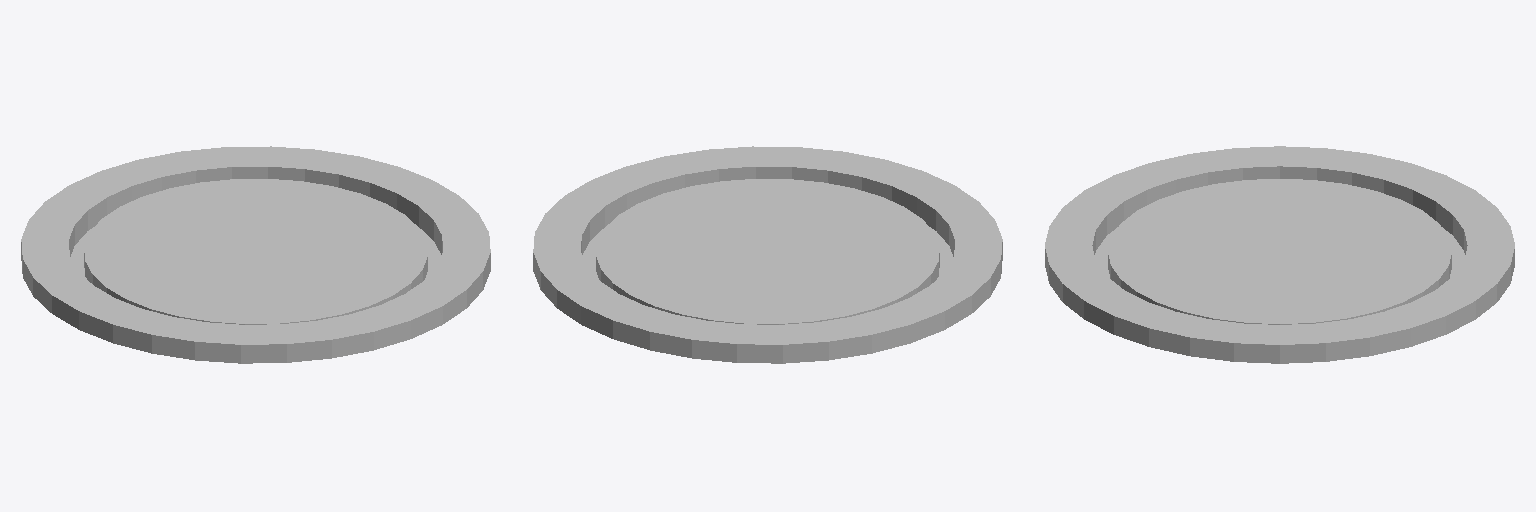
3 renders of one model, left to right at view 1: azimuth 30°, elevation 25°; view 2: azimuth 150°, elevation 25°; view 3: azimuth 270°, elevation 25°, orthographic.
Parts seen in each view (by area): view 1: Cylinder, tekst; view 2: Cylinder, tekst; view 3: Cylinder, tekst.
Part boxes in pixels (bbox=[...]): Cylinder: bbox=[21, 146, 490, 363]; tekst: bbox=[123, 197, 398, 306]; Cylinder: bbox=[533, 146, 1002, 363]; tekst: bbox=[633, 191, 915, 301]; Cylinder: bbox=[1045, 146, 1514, 363]; tekst: bbox=[1176, 199, 1368, 305].
Size of the model in its own units: 1.33 by 0.0642 by 1.33.